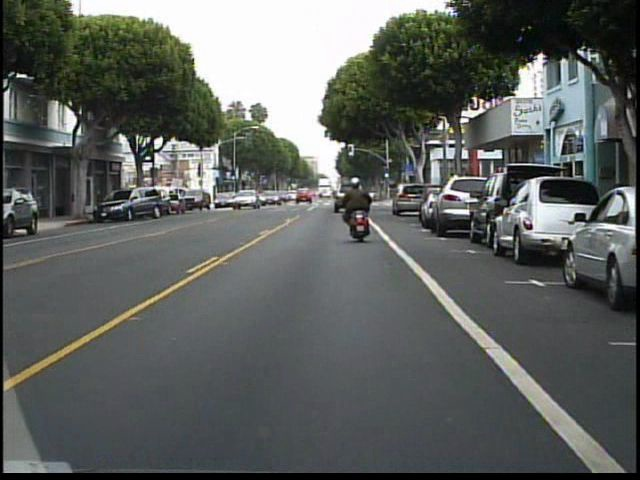person: (337, 171, 375, 240)
